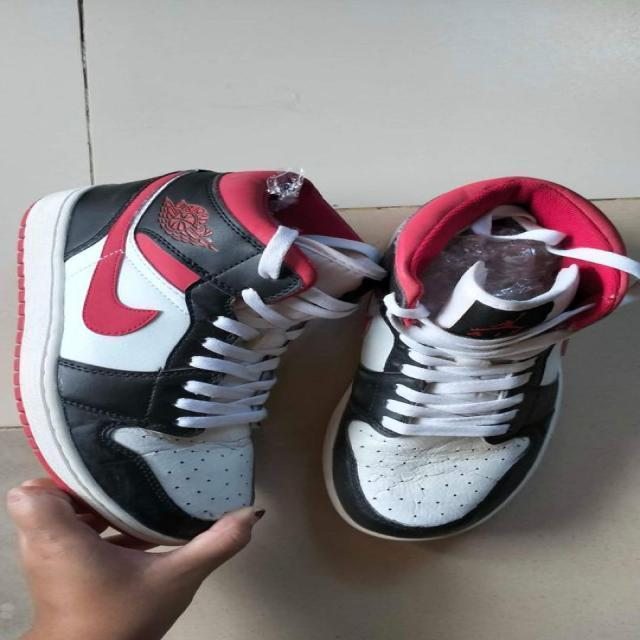nike fake jordan 1: (14, 170, 386, 555), (320, 178, 634, 545)
